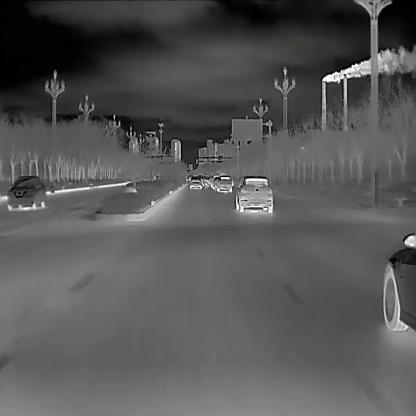car: (383, 234, 416, 333), (235, 175, 273, 215), (7, 174, 44, 208), (216, 175, 232, 192), (189, 175, 204, 189)
